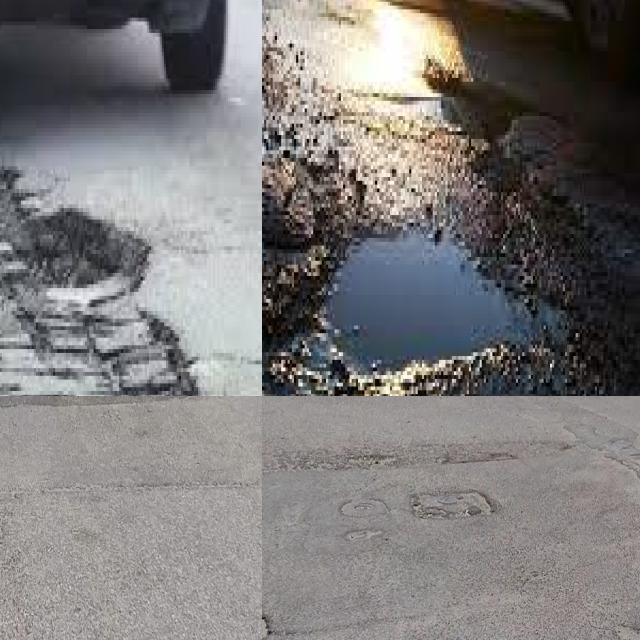Pothole: (0, 160, 192, 396), (328, 237, 534, 363), (444, 81, 519, 140), (409, 487, 496, 524)
